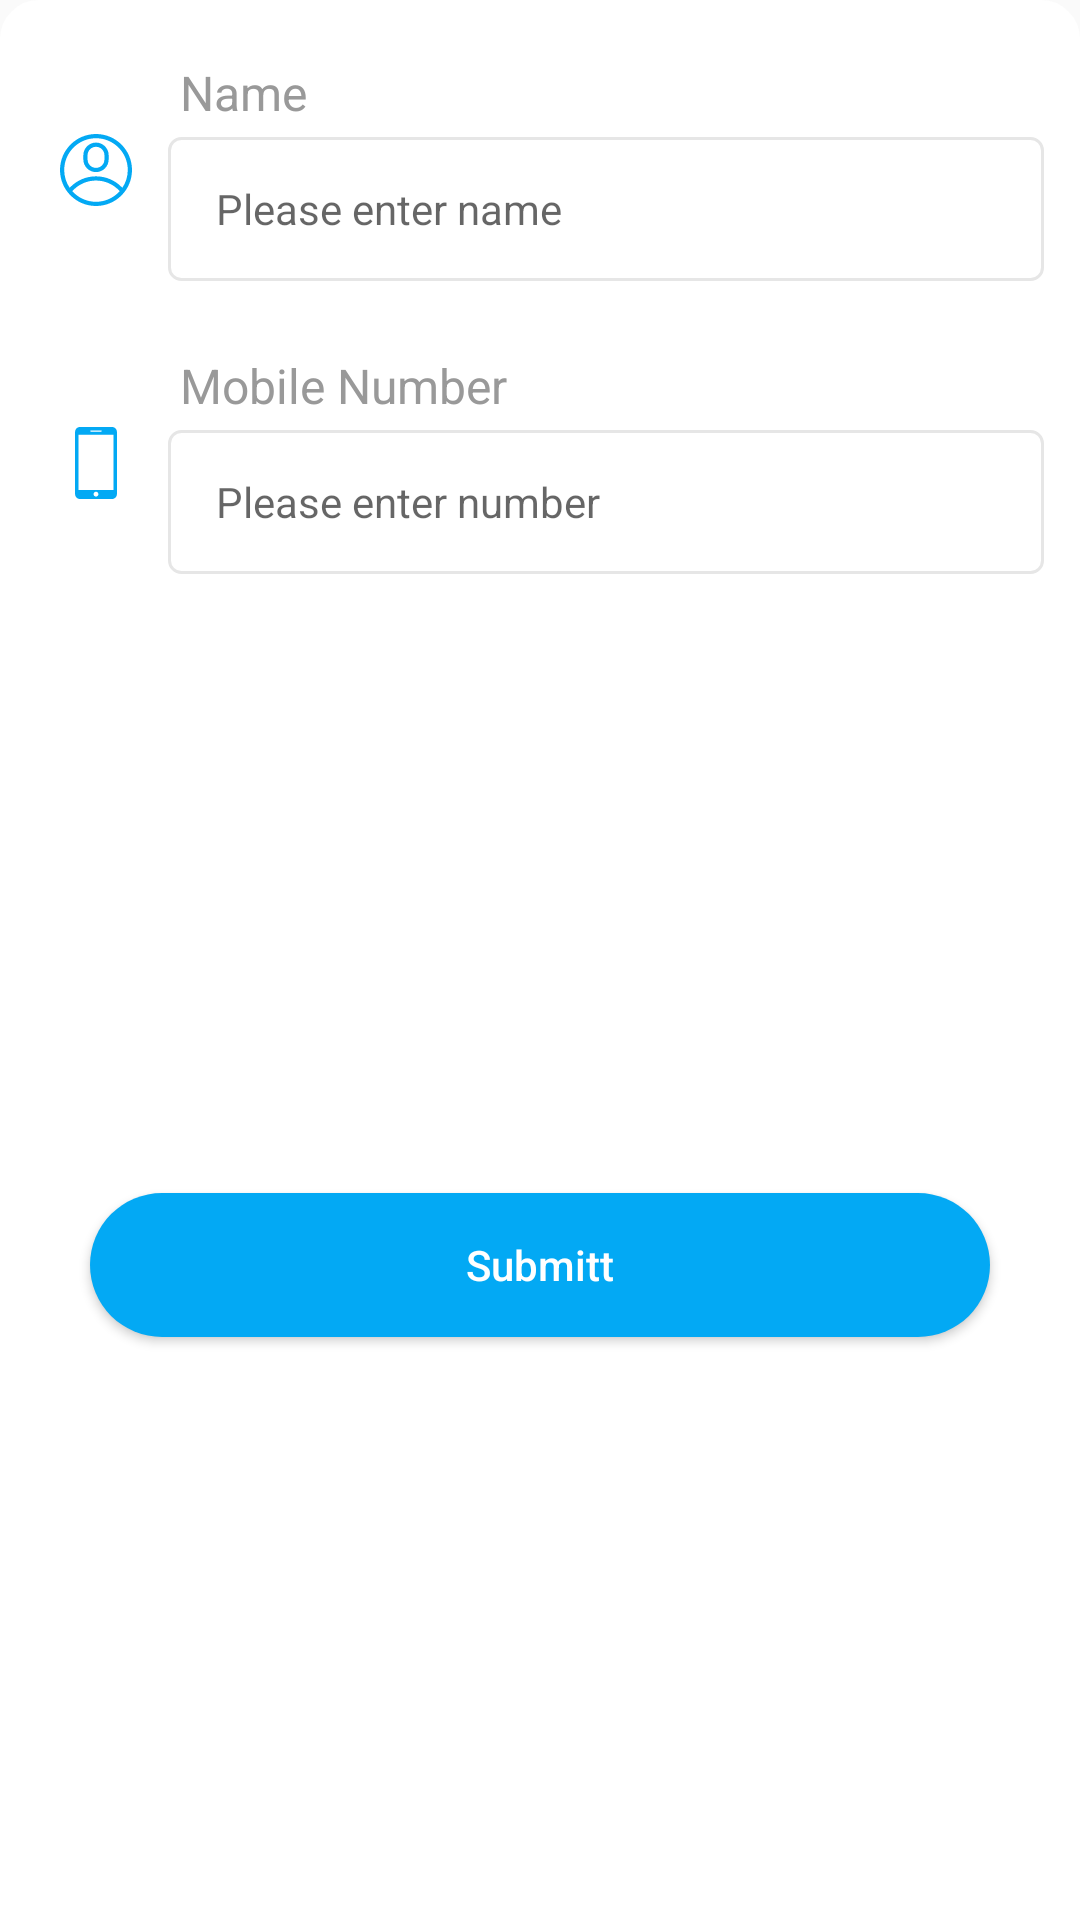

Where icons sit on this 1080px×1920px app screen, as (x1, y1, x2, y2):
account: (60, 134, 132, 206)
android phone: (75, 427, 117, 499)
